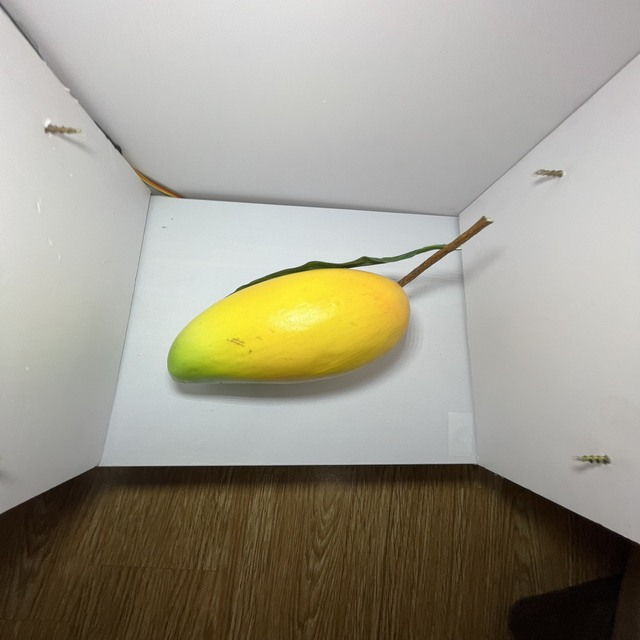Xoai: (142, 232, 434, 429)
